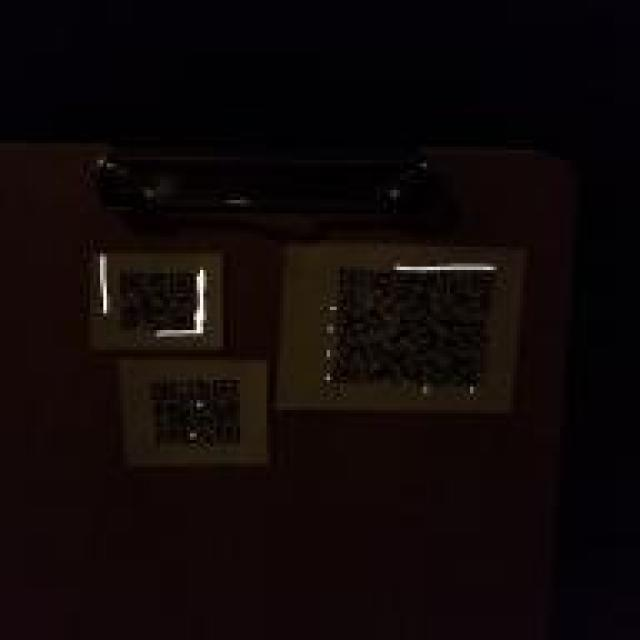qr_code: (330, 260, 499, 389), (148, 376, 242, 455), (119, 268, 206, 340)
